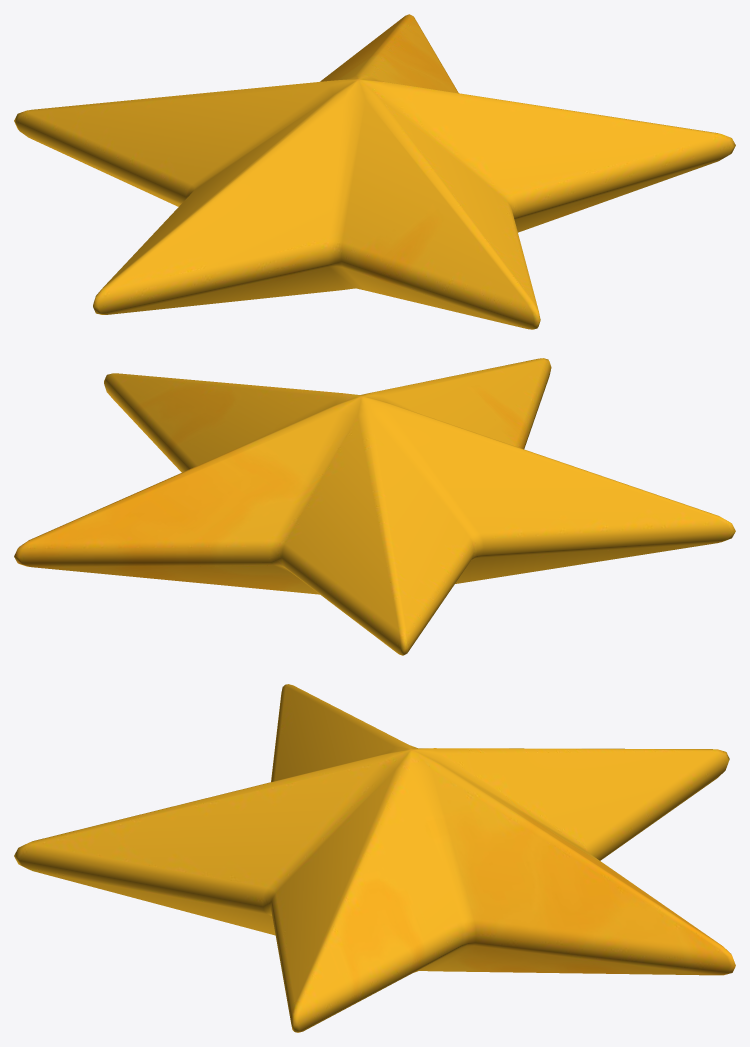
Rendered from starProjectil.fbx.
The picture shows the model from 3 angles, top to bottom: view 1: azimuth 30°, elevation 25°; view 2: azimuth 150°, elevation 25°; view 3: azimuth 270°, elevation 25°; orthographic projection. The views are drawn at different scales.
Visible parts, largest first — view 1: Gold_star.001; view 2: Gold_star.001; view 3: Gold_star.001.
Boxes of the visible parts, x1=… form: Gold_star.001: x1=14, y1=14, x2=735, y2=329; Gold_star.001: x1=14, y1=358, x2=735, y2=655; Gold_star.001: x1=14, y1=684, x2=735, y2=1032.
Size of the model in its own units: 37.64 by 11.47 by 34.3.
